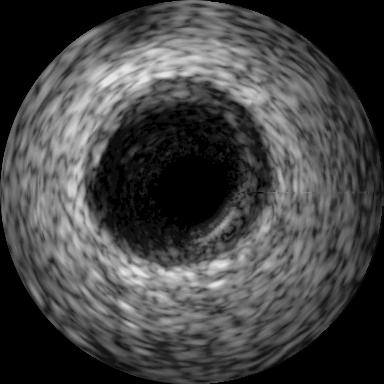Lumen: (155, 147, 235, 231)
